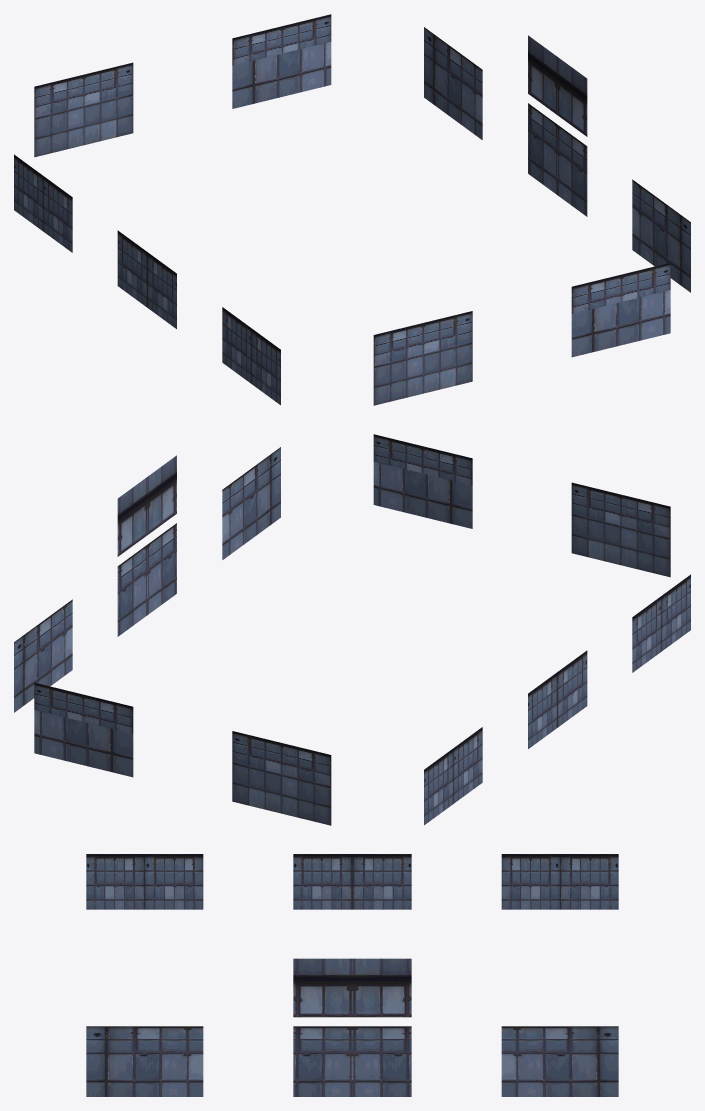
The model's file is warehousebrickb_id_4_windowdarka_dm_0_lev1.glb.
3 renders of one model, top to bottom at view 1: azimuth 30°, elevation 25°; view 2: azimuth 150°, elevation 25°; view 3: azimuth 270°, elevation 25°, orthographic.
Parts seen in each view (by area): view 1: warehousebrickb_id_4_windowdarka_dm_0_lev1; view 2: warehousebrickb_id_4_windowdarka_dm_0_lev1; view 3: warehousebrickb_id_4_windowdarka_dm_0_lev1.
Part boxes in pixels (x1=…): warehousebrickb_id_4_windowdarka_dm_0_lev1: x1=14, y1=14, x2=690, y2=405; warehousebrickb_id_4_windowdarka_dm_0_lev1: x1=14, y1=434, x2=690, y2=825; warehousebrickb_id_4_windowdarka_dm_0_lev1: x1=86, y1=854, x2=618, y2=1096.
Bounding box in the file's own units: 6.21 × 2.18 × 8.9.
1 material, 1 textured.
